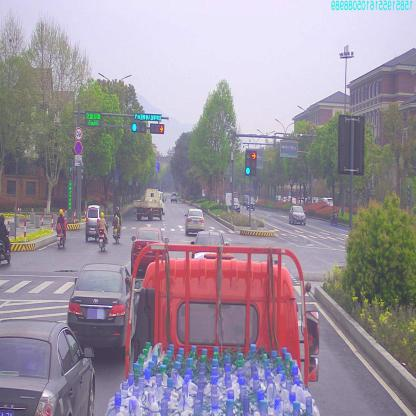traffic-light: (134, 113, 160, 120), (150, 122, 164, 134), (131, 125, 145, 131)
